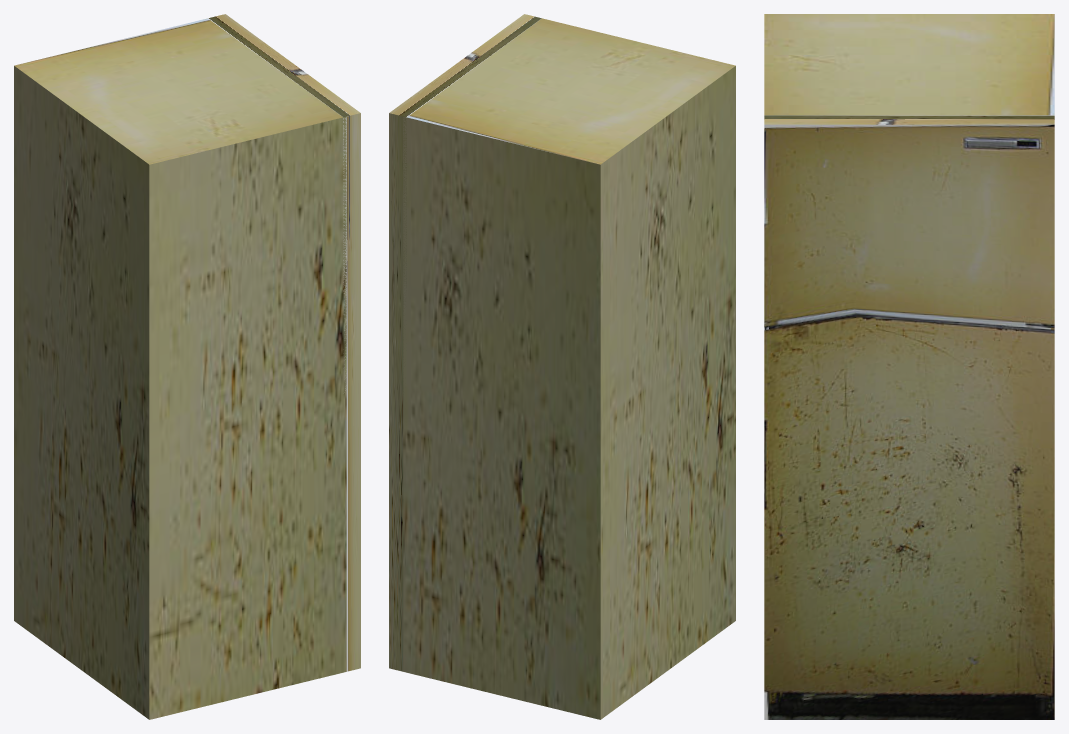
File: frizider.glb
3 renders of one model, left to right at view 1: azimuth 30°, elevation 25°; view 2: azimuth 150°, elevation 25°; view 3: azimuth 270°, elevation 25°, orthographic. The views are drawn at different scales.
Visible parts, largest first — view 1: Base, Vrata; view 2: Base, Vrata; view 3: Vrata, Base.
Part boxes in pixels (x1=…): Base: x1=14, y1=18, x2=346, y2=719; Vrata: x1=208, y1=14, x2=360, y2=671; Base: x1=403, y1=18, x2=735, y2=719; Vrata: x1=389, y1=14, x2=541, y2=671; Vrata: x1=764, y1=115, x2=1054, y2=719; Base: x1=764, y1=14, x2=1054, y2=115.
Size of the model in its own units: 1.37 by 3.44 by 1.52.
Materials: 2 (2 with a texture image).
